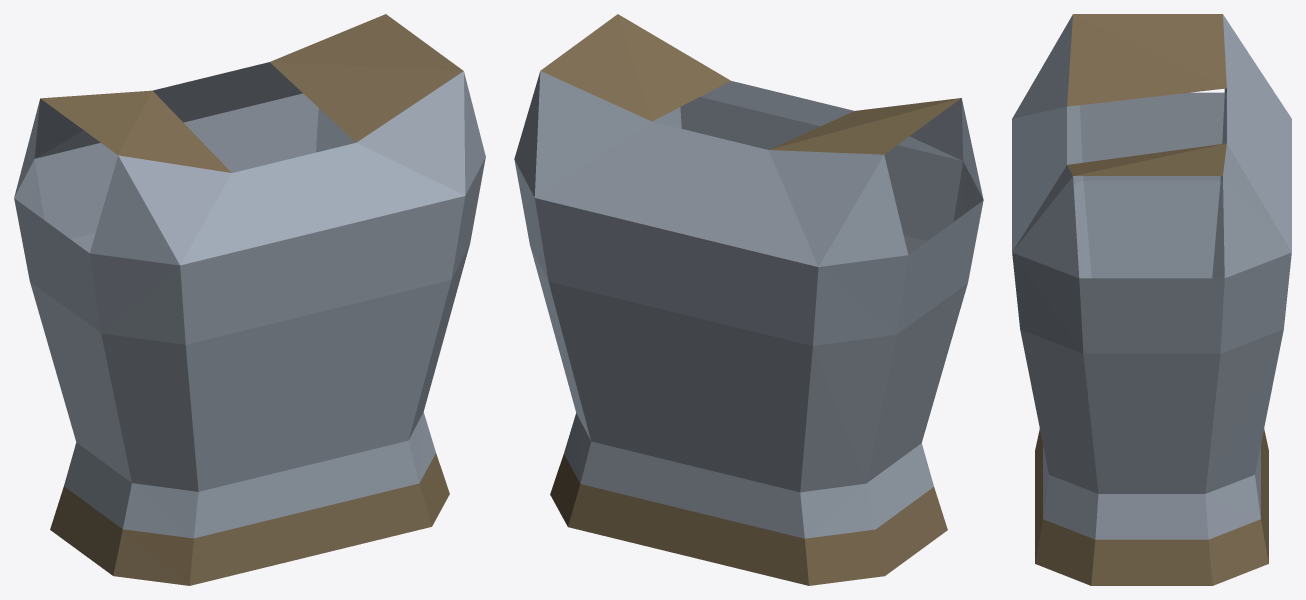
The model's file is Cuirass_Heavy.fbx.
3 views of the same model, side by side, from view 1: azimuth 30°, elevation 25°; view 2: azimuth 150°, elevation 25°; view 3: azimuth 270°, elevation 25° (orthographic). The views are drawn at different scales.
Visible parts, largest first — view 1: 02_Cuirass_Heavy; view 2: 02_Cuirass_Heavy; view 3: 02_Cuirass_Heavy.
Boxes of the visible parts, x1=… form: 02_Cuirass_Heavy: x1=14, y1=14, x2=485, y2=585; 02_Cuirass_Heavy: x1=514, y1=14, x2=983, y2=585; 02_Cuirass_Heavy: x1=1012, y1=14, x2=1291, y2=585.
Size of the model in its own units: 44 by 45.5 by 28.
